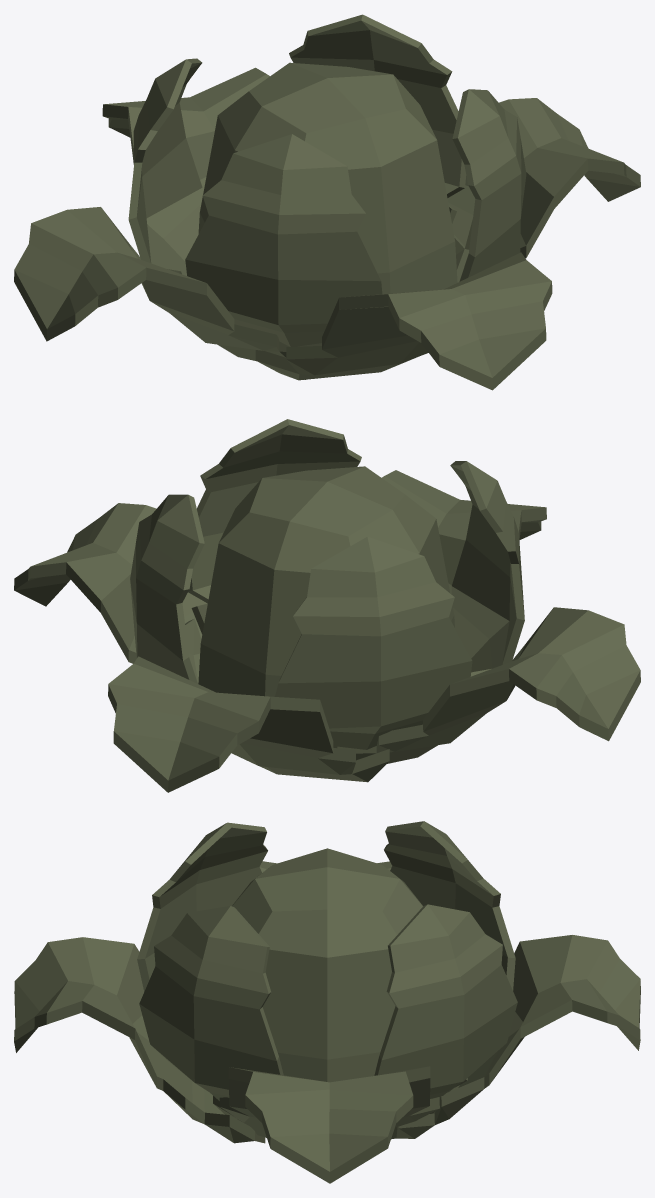
The model's file is Lettuce_4.glb.
3 views of the same model, one above another, from view 1: azimuth 30°, elevation 25°; view 2: azimuth 150°, elevation 25°; view 3: azimuth 270°, elevation 25° (orthographic). The views are drawn at different scales.
Visible parts, largest first — view 1: Lettuce_4_Plane.018; view 2: Lettuce_4_Plane.018; view 3: Lettuce_4_Plane.018.
Part boxes in pixels (x1,y1,x2,y2): Lettuce_4_Plane.018: (14, 14, 640, 390); Lettuce_4_Plane.018: (14, 419, 640, 792); Lettuce_4_Plane.018: (14, 821, 640, 1183).
Size of the model in its own units: 1.04 by 0.4741 by 1.04.
